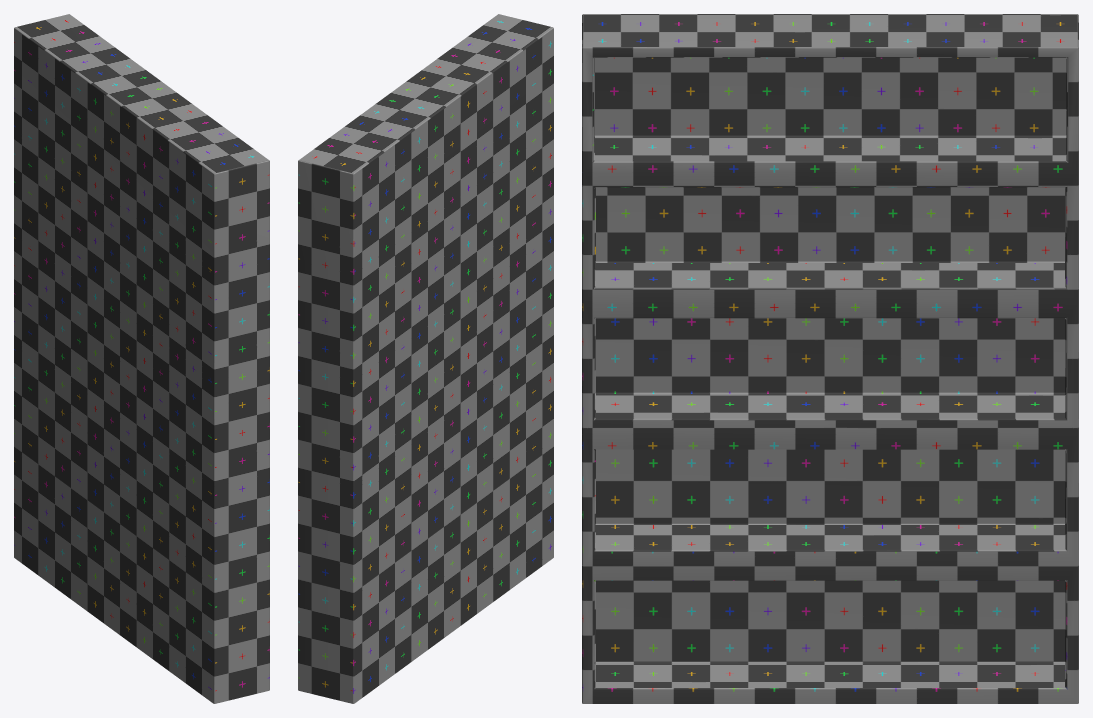
File: Shelf.glb
The picture shows the model from 3 angles, left to right: view 1: azimuth 30°, elevation 25°; view 2: azimuth 150°, elevation 25°; view 3: azimuth 270°, elevation 25°; orthographic projection. The views are drawn at different scales.
Parts seen in each view (by area): view 1: Pyramid.001; view 2: Pyramid.001; view 3: Pyramid.001.
Boxes of the visible parts, x1,y1,x2,y2 form: Pyramid.001: [14, 14, 269, 703]; Pyramid.001: [298, 14, 553, 703]; Pyramid.001: [582, 14, 1078, 703].
Bounding box in the file's own units: 0.1848 × 1.66 × 1.14.
1 material, 1 textured.
